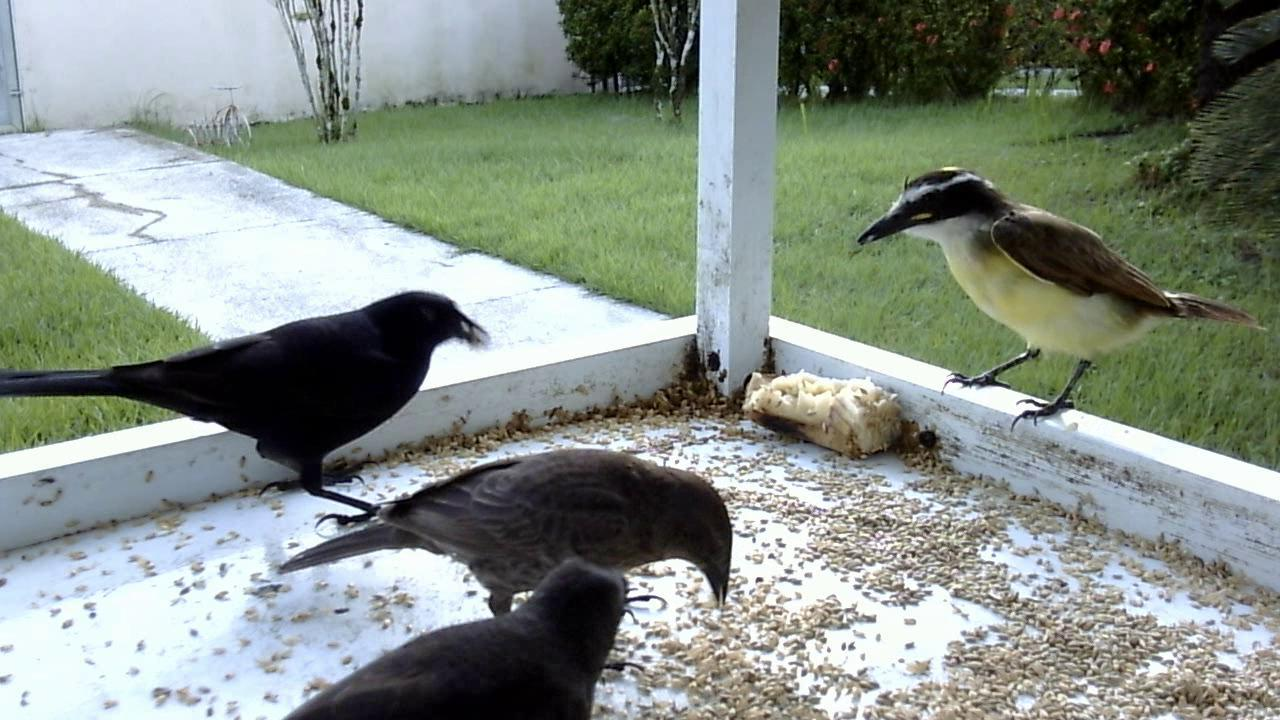bem_te_vi: (844, 155, 1265, 456)
chupim: (1, 269, 498, 507), (291, 439, 731, 631), (256, 552, 638, 720)
